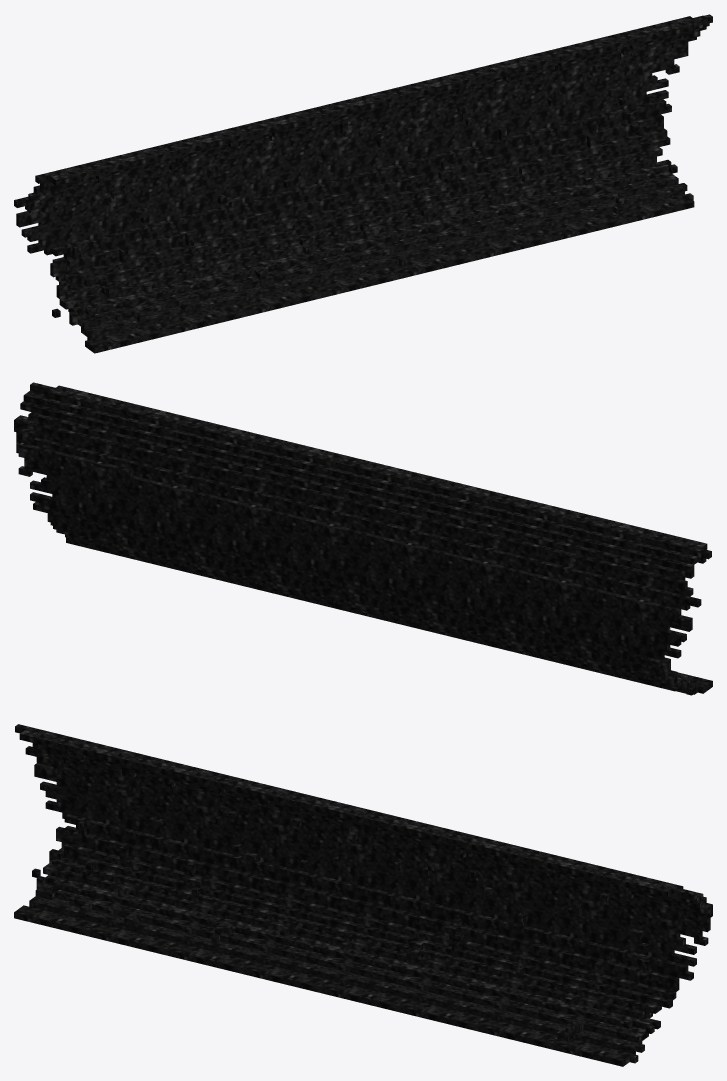
File: MinesSegmentTextured.FBX
3 renders of one model, top to bottom at view 1: azimuth 30°, elevation 25°; view 2: azimuth 150°, elevation 25°; view 3: azimuth 330°, elevation 25°, orthographic.
Visible parts, largest first — view 1: CaveSegment; view 2: CaveSegment; view 3: CaveSegment.
Boxes of the visible parts, x1,y1,x2,y2 form: CaveSegment: [14, 14, 712, 353]; CaveSegment: [14, 382, 712, 695]; CaveSegment: [14, 724, 712, 1066].
Bounding box in the file's own units: 123 × 28 × 16.
Materials: 1 (1 with a texture image).
